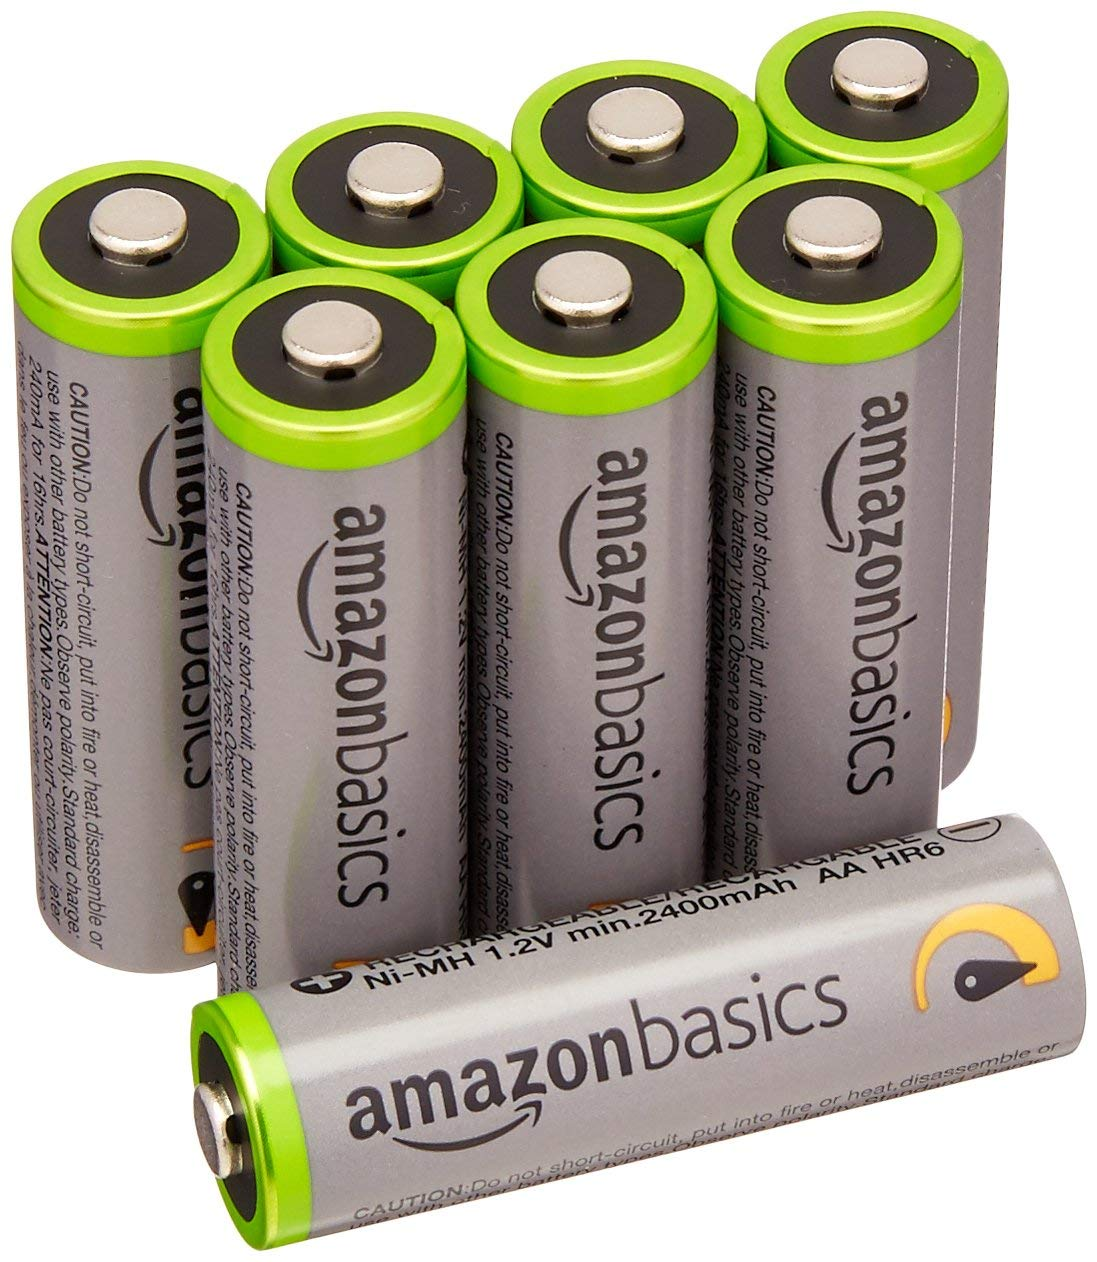Nonrec_Other: (21, 40, 1071, 912), (147, 809, 1088, 1246)
